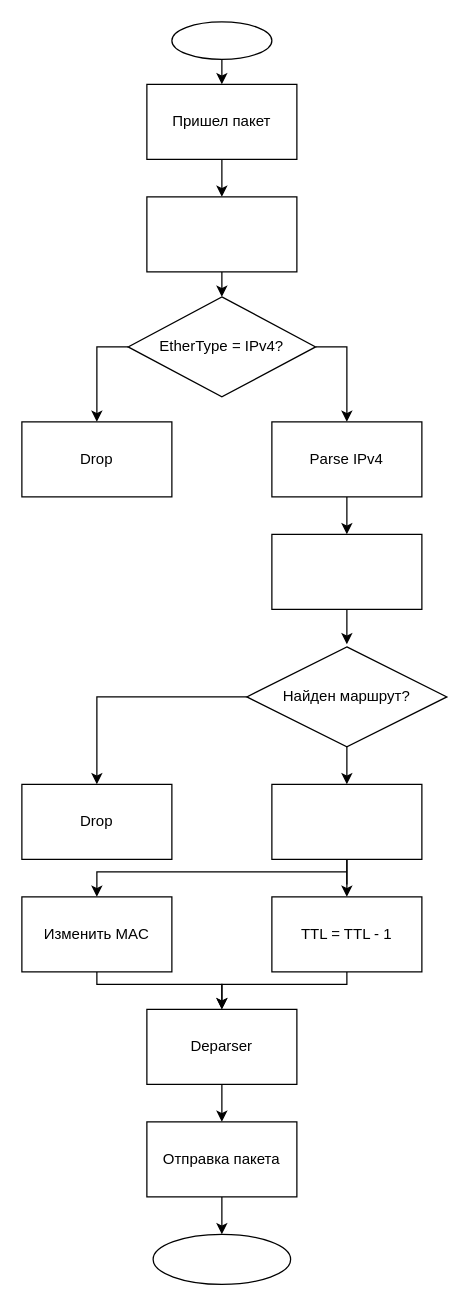
Some shapes in this 469 by 1306 pixel diagram are drawn without their labels. The box of each missing label's shape, as (x1, y1, x2, y2) in pixels:
End: (152, 1233, 291, 1284)
ipv4_forward: (271, 783, 422, 859)
ipv4_lpm lookup: (271, 533, 422, 609)
Parse Ethernet: (146, 196, 297, 272)
start: (171, 21, 272, 59)
